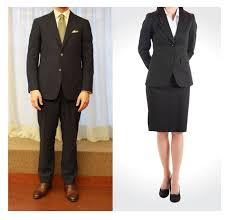F_tailored skirt: (143, 81, 192, 139)
S_business casual jacket: (136, 7, 211, 95)
